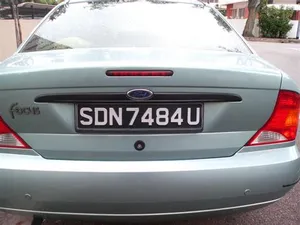number_plate: (67, 98, 226, 141)
